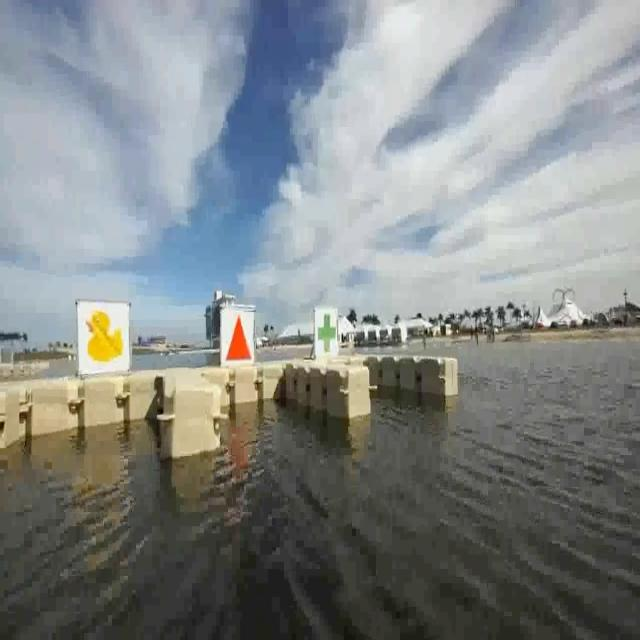blue-cross: (316, 308, 338, 364)
red-dot: (221, 307, 256, 371)
yellow-duck: (86, 308, 124, 364)
